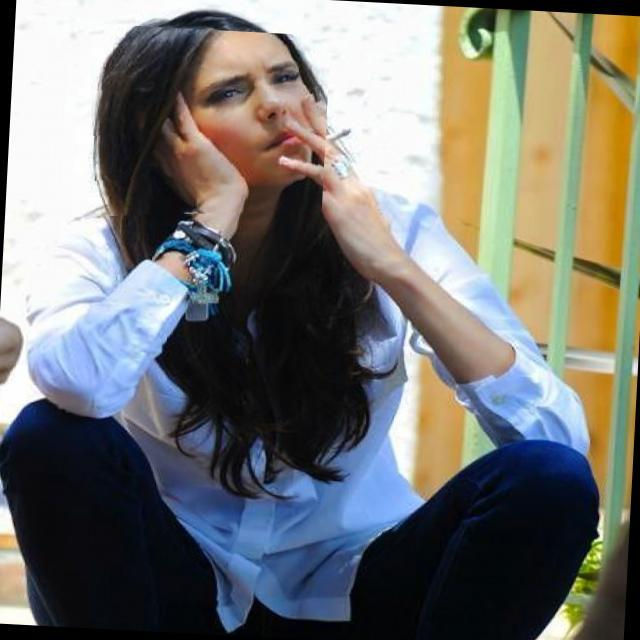cigarette: (278, 124, 362, 169)
